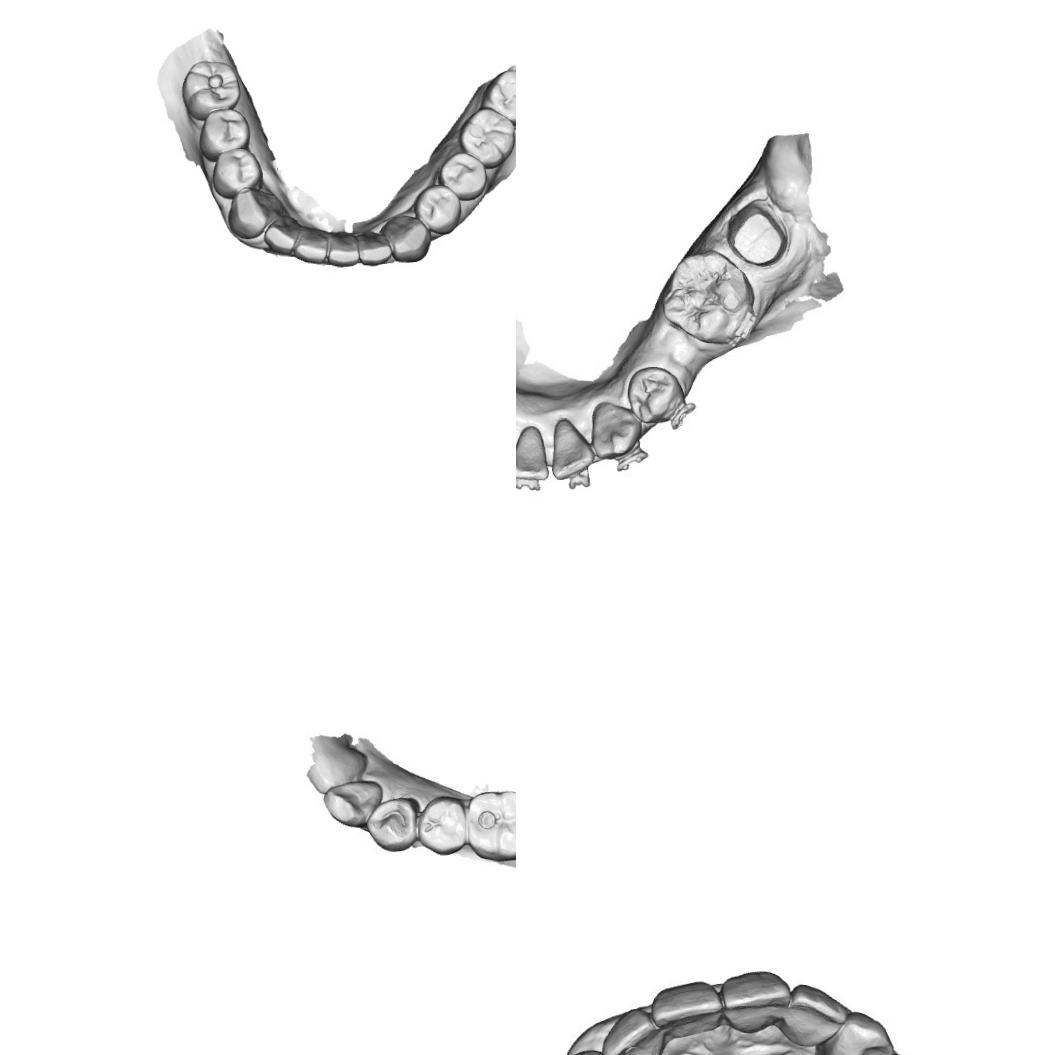canine: (587, 398, 644, 462), (320, 778, 386, 828), (226, 186, 283, 240), (379, 212, 432, 264), (829, 1020, 893, 1055)
crown: (722, 202, 792, 270)
incisor: (654, 982, 722, 1042), (720, 968, 784, 1030), (786, 985, 842, 1046), (550, 416, 600, 482), (609, 1007, 664, 1055), (516, 424, 552, 482), (262, 213, 301, 255), (354, 228, 395, 267), (292, 224, 330, 264), (325, 228, 362, 269)
molar: (658, 246, 757, 349), (178, 56, 244, 122), (454, 105, 516, 170), (466, 791, 516, 859), (478, 66, 516, 127)
premolar: (624, 364, 684, 426), (366, 792, 423, 854), (418, 795, 470, 857), (197, 106, 254, 162), (209, 146, 265, 200), (410, 182, 464, 236), (436, 150, 489, 202)
